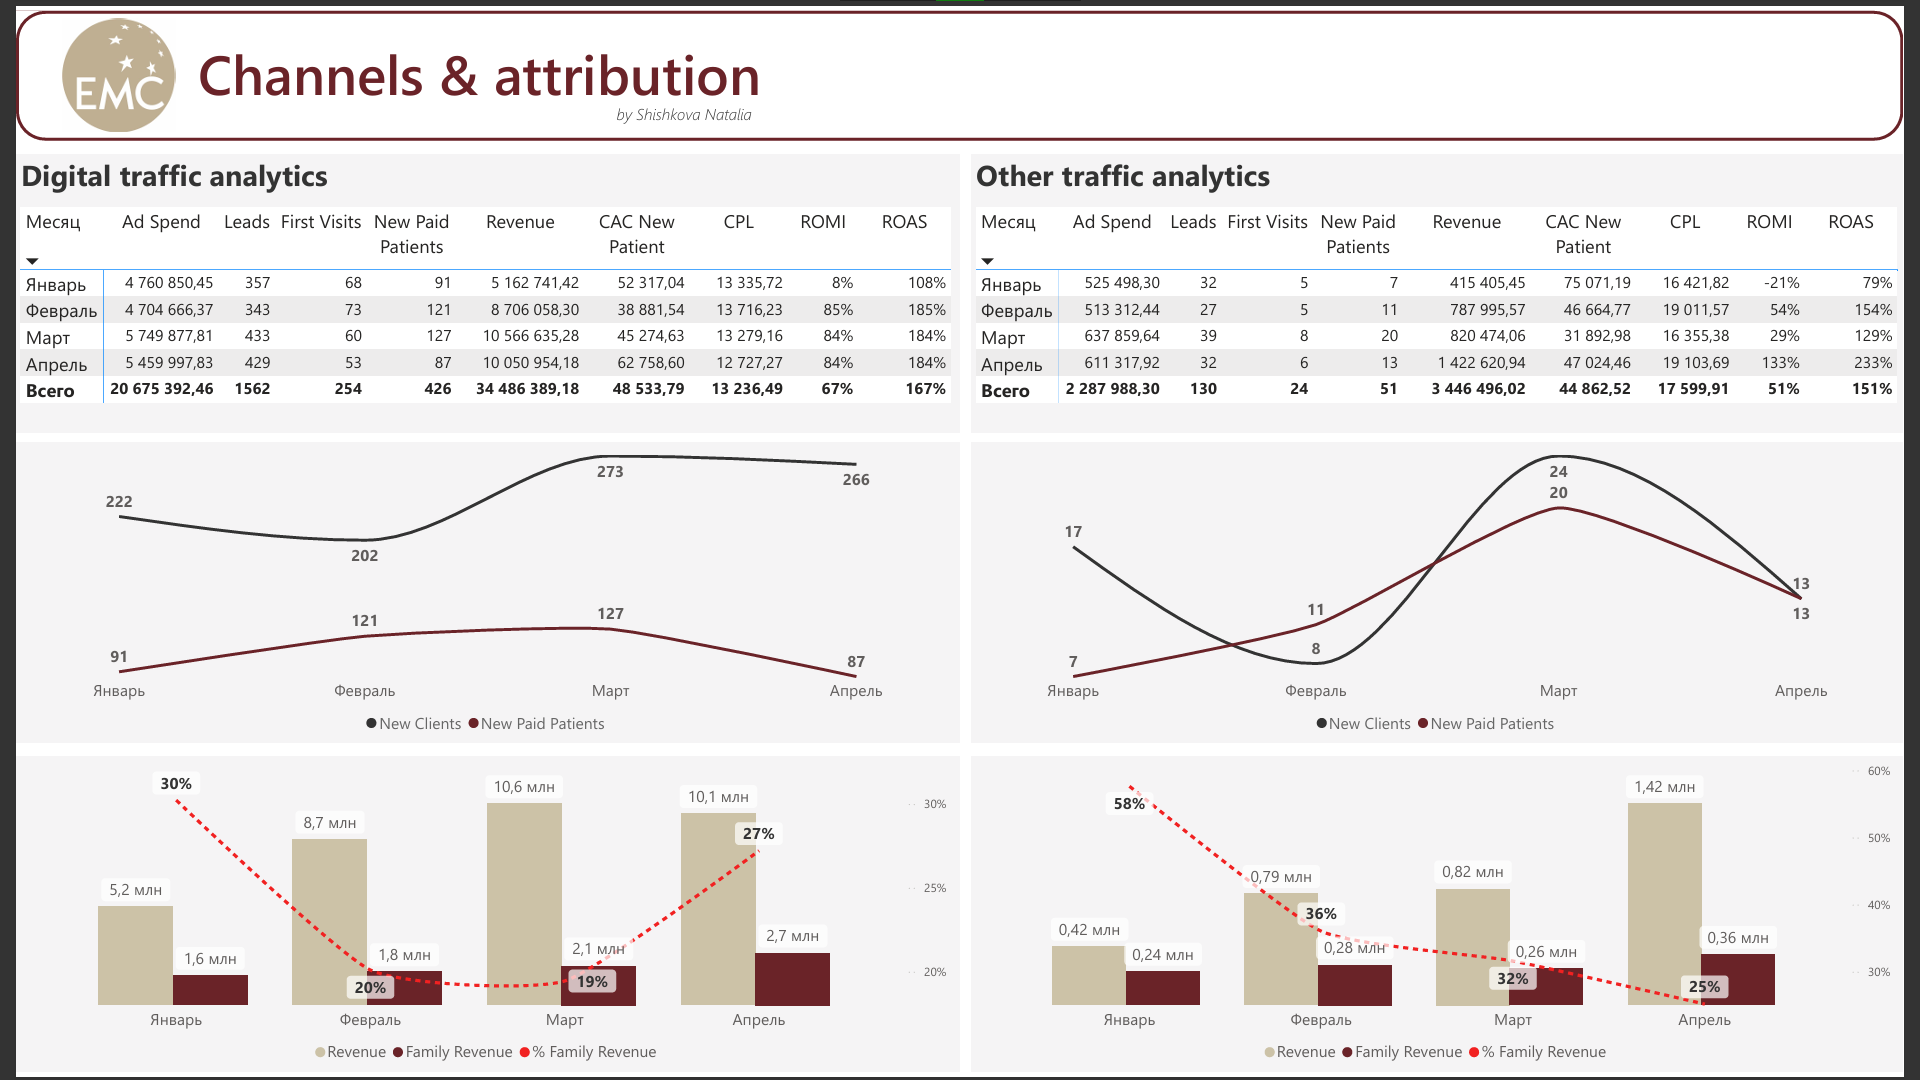

What the dashboard file says about the page in this screenshot:
{"tool":"powerbi","page":{"name":"EMC_3","canvas":[1920,1080],"ordinal":2},"visuals":[{"type":"shape","box":[0,0,1920.3,132],"z":0},{"type":"textbox","box":[149.5,4,632.9,122.5],"z":1000},{"type":"textbox","box":[606,88.9,149.5,37.7],"z":2000},{"type":"image","box":[44.4,8.1,121.2,115.8],"z":3000},{"type":"pivotTable","title":"Digital traffic analytics","fields":{"Rows":["calendar.Месяц"],"Values":["ad_costs.Ad Spend","leads.Leads","leads.First Visits","revenue.New Paid Patients","revenue.Revenue","revenue.CAC New Patient","leads.CPL","revenue.ROMI","revenue.ROAS"]},"box":[0,145.9,960,283],"z":4000},{"type":"pivotTable","title":"Other traffic analytics","fields":{"Rows":["calendar.Месяц"],"Values":["ad_costs.Ad Spend","leads.Leads","leads.First Visits","revenue.New Paid Patients","revenue.Revenue","revenue.CAC New Patient","leads.CPL","revenue.ROMI","revenue.ROAS"]},"box":[971.7,145.9,948.3,283],"z":5000},{"type":"lineClusteredColumnComboChart","title":"Share of revenue from family accounts ","fields":{"Category":["calendar.Месяц"],"Y":["revenue.Revenue","revenue.Family Revenue"],"Y2":["revenue.% Family Revenue"]},"box":[0,758.7,960,321],"z":6000},{"type":"lineClusteredColumnComboChart","title":"Share of revenue from family accounts in Other traffic","fields":{"Category":["calendar.Месяц"],"Y":["revenue.Revenue","revenue.Family Revenue"],"Y2":["revenue.% Family Revenue"]},"box":[971.7,758.7,948.3,321],"z":7000},{"type":"lineChart","title":"Analysis of New Leads and New Paid Patients","fields":{"Category":["calendar.Месяц"],"Y":["leads.New Leads","revenue.New Paid Patients"]},"box":[0,439.1,960,306.4],"z":8000},{"type":"lineChart","fields":{"Category":["calendar.Месяц"],"Y":["leads.New Leads","revenue.New Paid Patients"]},"box":[971.7,439.1,948.3,306.4],"z":9000}]}

Visuals, with their boxes in screenshot pixels (x1, y1, x2, y2), scaled from the page's 1920x1080 canvas onto the 1920x1080 screenshot:
shape: {"left": 0, "top": 0, "right": 1919, "bottom": 132}
textbox: {"left": 150, "top": 4, "right": 782, "bottom": 126}
textbox: {"left": 606, "top": 89, "right": 756, "bottom": 127}
image: {"left": 44, "top": 8, "right": 166, "bottom": 124}
"Digital traffic analytics" pivotTable: {"left": 0, "top": 146, "right": 960, "bottom": 429}
"Other traffic analytics" pivotTable: {"left": 972, "top": 146, "right": 1919, "bottom": 429}
"Share of revenue from family accounts " lineClusteredColumnComboChart: {"left": 0, "top": 759, "right": 960, "bottom": 1079}
"Share of revenue from family accounts in Other traffic" lineClusteredColumnComboChart: {"left": 972, "top": 759, "right": 1919, "bottom": 1079}
"Analysis of New Leads and New Paid Patients" lineChart: {"left": 0, "top": 439, "right": 960, "bottom": 746}
lineChart - calendar.Месяц x leads.New Leads: {"left": 972, "top": 439, "right": 1919, "bottom": 746}
